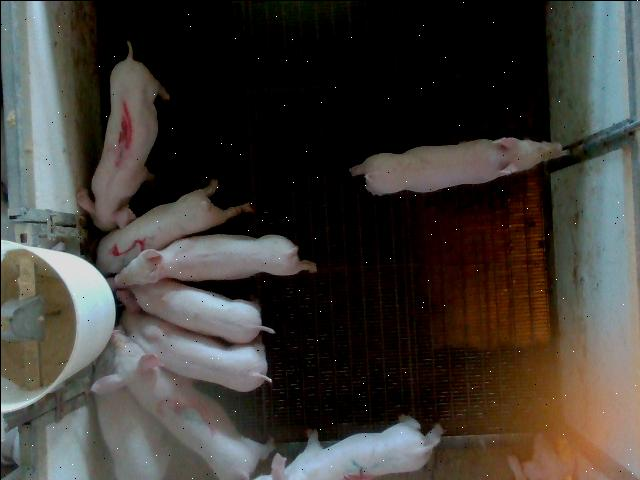pig-1: (76, 41, 169, 231)
pig-3: (91, 329, 271, 479)
pig-4: (254, 415, 442, 479)
pig-5: (95, 178, 252, 274)
